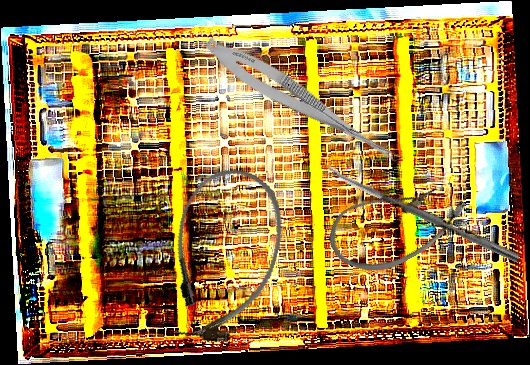Cannula: (151, 157, 297, 355), (319, 157, 475, 290)
Micro Scissor: (197, 30, 413, 173)
Surgical Spoon: (322, 163, 522, 263)
